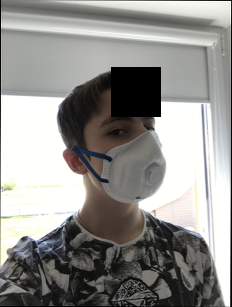with_mask: (94, 106, 167, 205)
